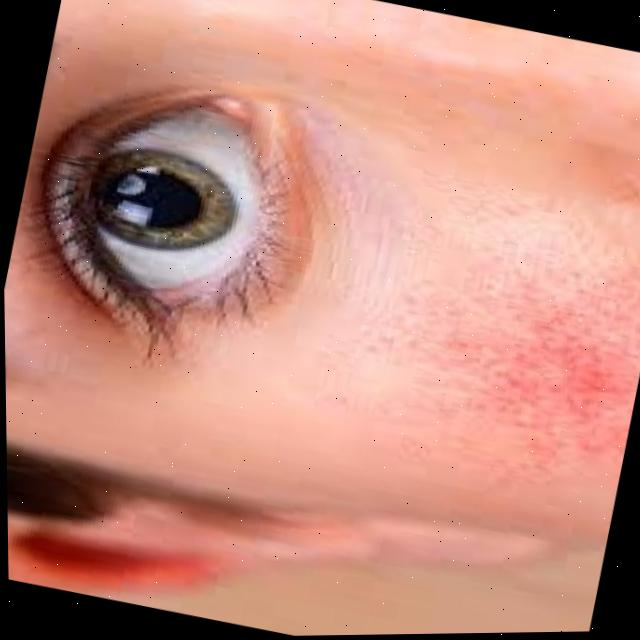Rosacea: (369, 243, 640, 496)
